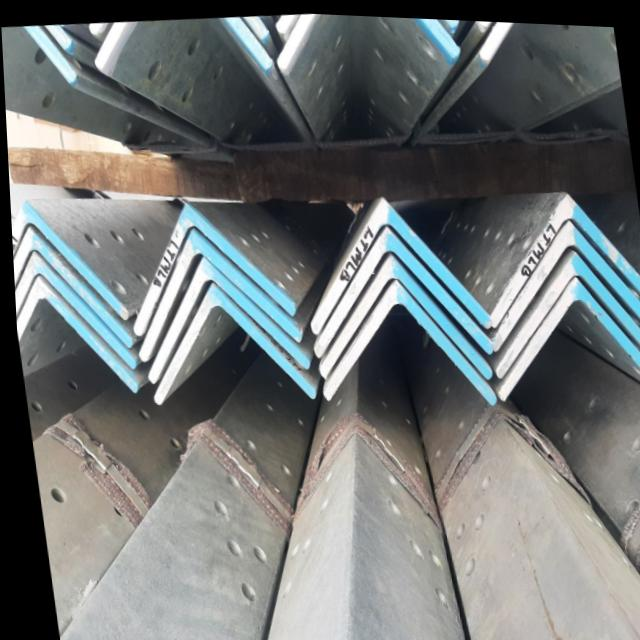metal-angles: (307, 192, 488, 331), (310, 222, 489, 355), (315, 249, 488, 376), (129, 200, 292, 334), (319, 275, 492, 401), (134, 228, 299, 360), (487, 187, 640, 325), (144, 253, 306, 382), (149, 280, 311, 403), (488, 215, 640, 346), (491, 246, 640, 374), (494, 270, 640, 396), (11, 226, 129, 347), (12, 250, 132, 368), (9, 199, 125, 320), (13, 276, 133, 391)
